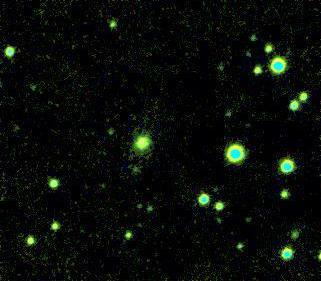star: (0, 114, 28, 144)
